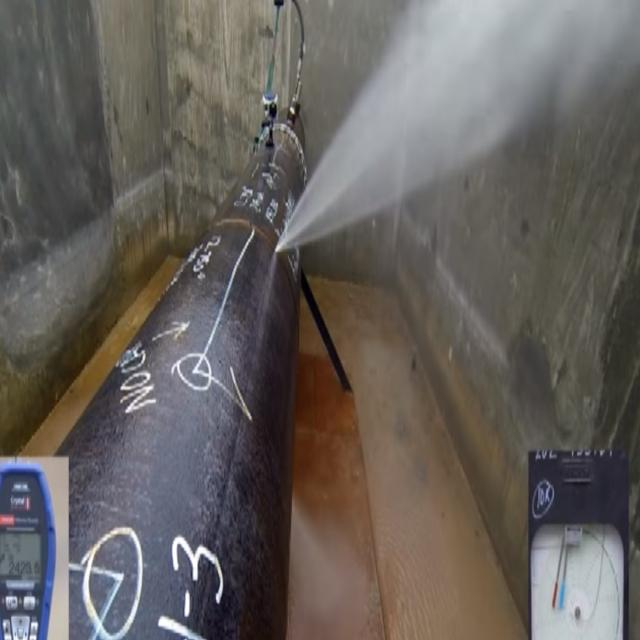leak: (279, 0, 640, 250)
